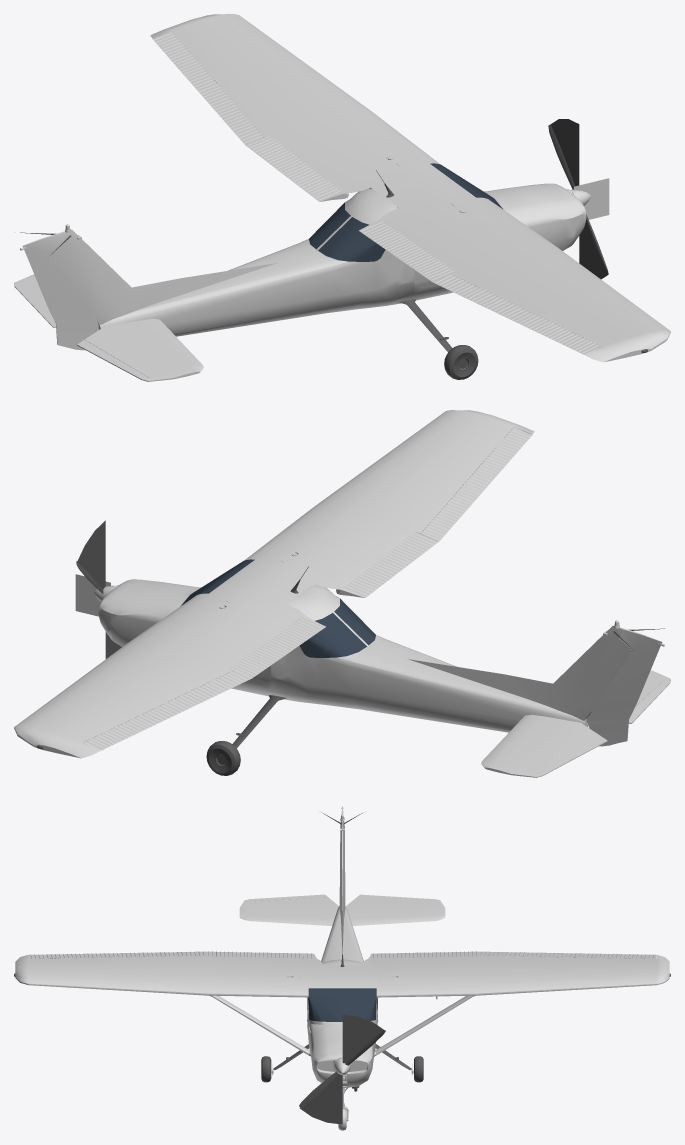
3 renders of one model, top to bottom at view 1: azimuth 30°, elevation 25°; view 2: azimuth 150°, elevation 25°; view 3: azimuth 270°, elevation 25°, orthographic. The views are drawn at different scales.
Visible parts, largest first — view 1: body, glass, spin, trim; view 2: body, glass, trim, spin; view 3: body, spin, glass, trim.
Boxes of the visible parts, left/top/right/bottom form: body: left=14, top=14, right=670, bottom=381; glass: left=309, top=163, right=502, bottom=261; spin: left=548, top=119, right=608, bottom=279; trim: left=20, top=170, right=647, bottom=379; body: left=14, top=410, right=670, bottom=777; glass: left=182, top=559, right=375, bottom=657; trim: left=37, top=566, right=664, bottom=775; spin: left=76, top=520, right=121, bottom=658; body: left=15, top=806, right=669, bottom=1130; spin: left=299, top=1014, right=385, bottom=1124; glass: left=307, top=988, right=377, bottom=1021; trim: left=14, top=811, right=670, bottom=1091.
Bounding box in the file's own units: 1.66 × 0.5601 × 2.2.
